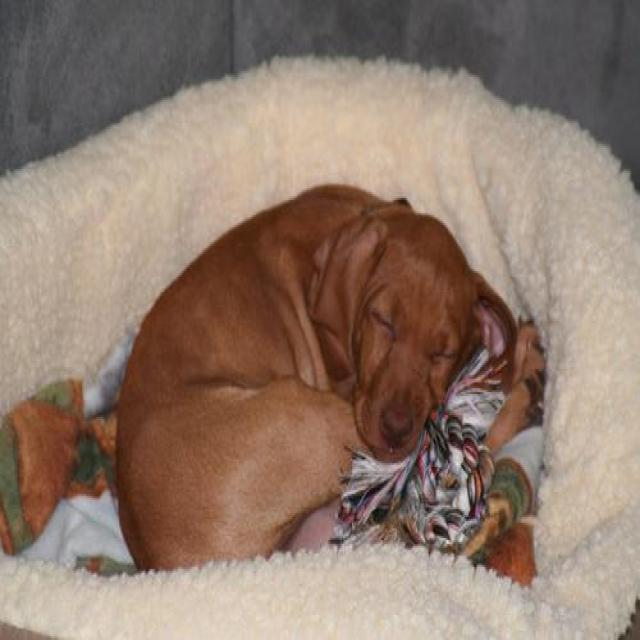vizsla: (111, 178, 517, 572)
